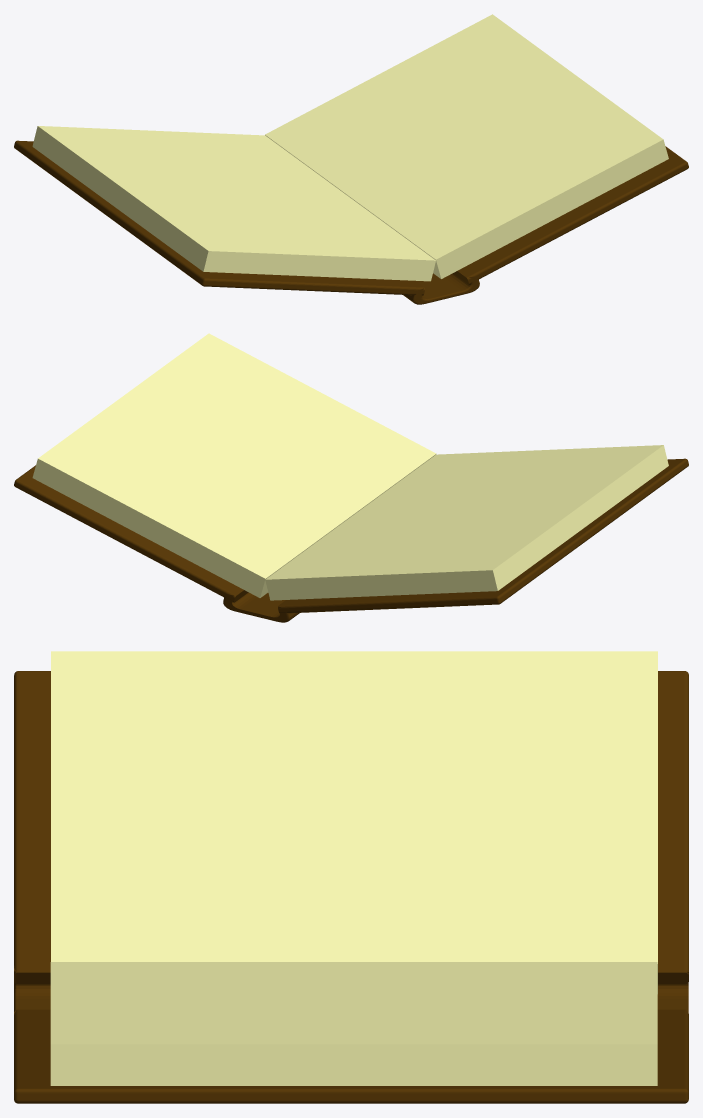
The model's file is OpenJournal.fbx.
3 views of the same model, one above another, from view 1: azimuth 30°, elevation 25°; view 2: azimuth 150°, elevation 25°; view 3: azimuth 270°, elevation 25° (orthographic). The views are drawn at different scales.
Visible parts, largest first — view 1: Page, LeftHalf, RightHalf, OpenStem; view 2: Page, LeftHalf, RightHalf, OpenStem; view 3: LeftHalf, Page, RightHalf, OpenStem.
Part boxes in pixels (x1,y1,x2,y2): Page: [265, 14, 663, 259]; LeftHalf: [14, 126, 435, 295]; RightHalf: [265, 135, 688, 284]; OpenStem: [403, 273, 479, 304]; Page: [38, 333, 436, 578]; LeftHalf: [265, 445, 688, 613]; RightHalf: [14, 454, 436, 602]; OpenStem: [223, 592, 299, 622]; LeftHalf: [14, 651, 688, 993]; Page: [50, 962, 657, 1044]; RightHalf: [14, 1009, 688, 1103]; OpenStem: [14, 966, 688, 1014].
Size of the model in its own units: 426 by 81.01 by 288.
